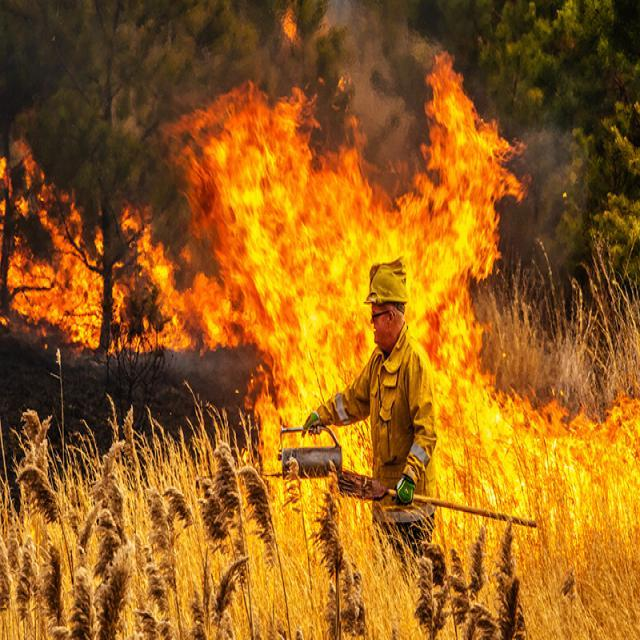Fire: (224, 70, 493, 310), (445, 336, 637, 530), (0, 152, 101, 350), (111, 202, 216, 360), (236, 320, 360, 433)
